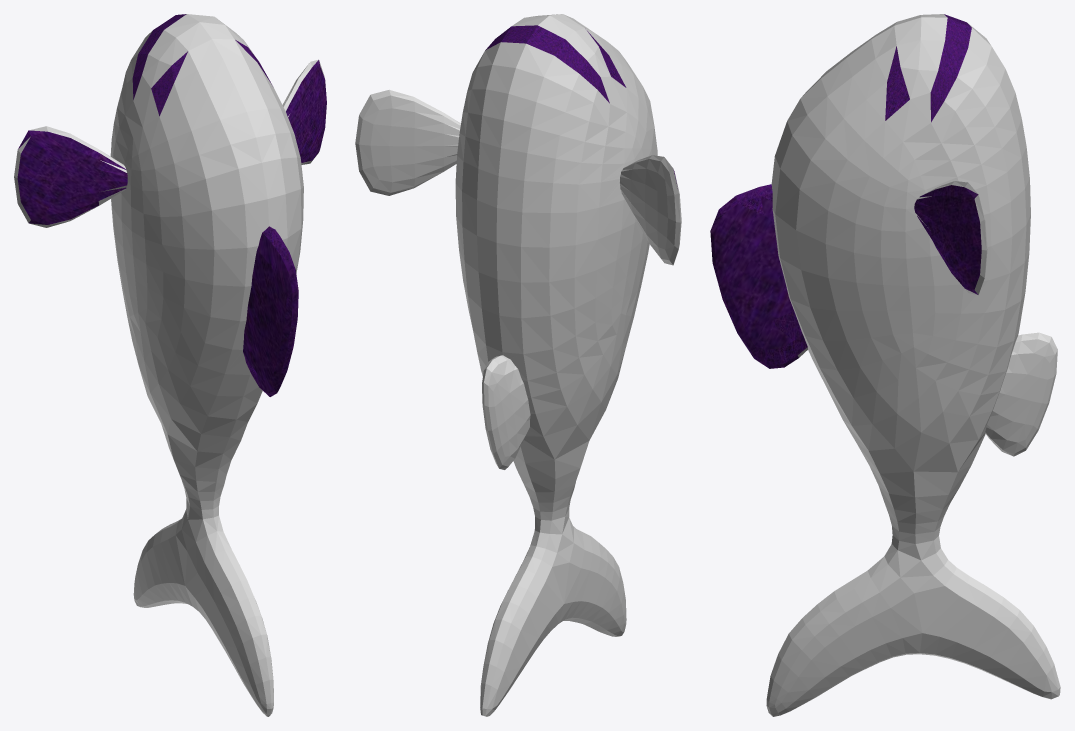
Rendered from boss.obj.
The picture shows the model from 3 angles, left to right: view 1: azimuth 30°, elevation 25°; view 2: azimuth 150°, elevation 25°; view 3: azimuth 270°, elevation 25°; orthographic projection. The views are drawn at different scales.
Parts seen in each view (by area): view 1: Object.1; view 2: Object.1; view 3: Object.1.
Boxes of the visible parts, x1,y1,x2,y2 form: Object.1: [14, 14, 326, 716]; Object.1: [355, 14, 681, 716]; Object.1: [710, 14, 1060, 716].
Bounding box in the file's own units: 88.19 × 174 × 79.09.
2 materials, 1 textured.
